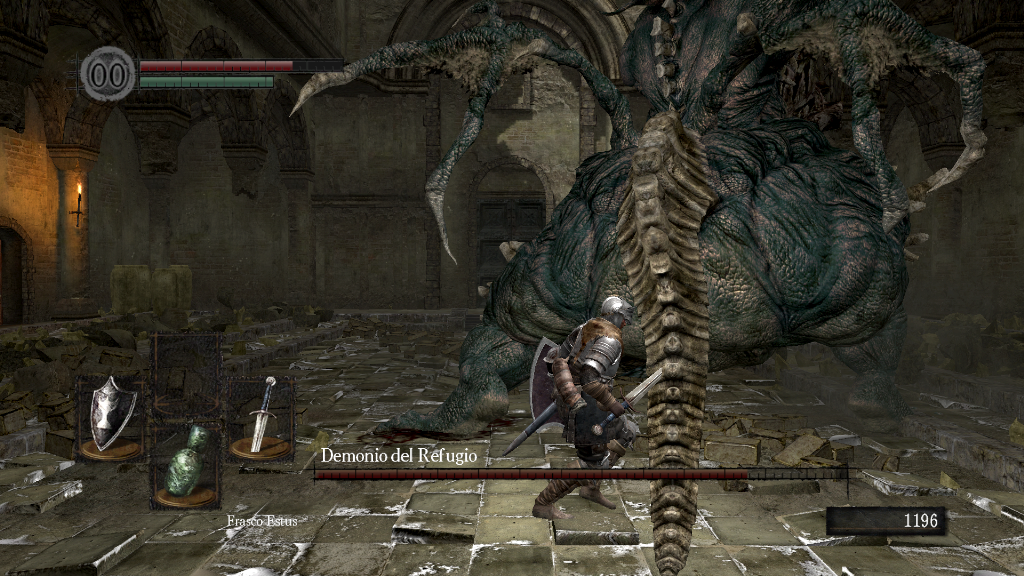asylumDemon: (287, 1, 991, 576)
bossHP: (314, 469, 847, 479)
health: (138, 58, 343, 71)
humanity: (80, 45, 136, 102)
player: (527, 294, 650, 521)
souls: (825, 506, 945, 536)
stamina: (138, 74, 274, 88)
